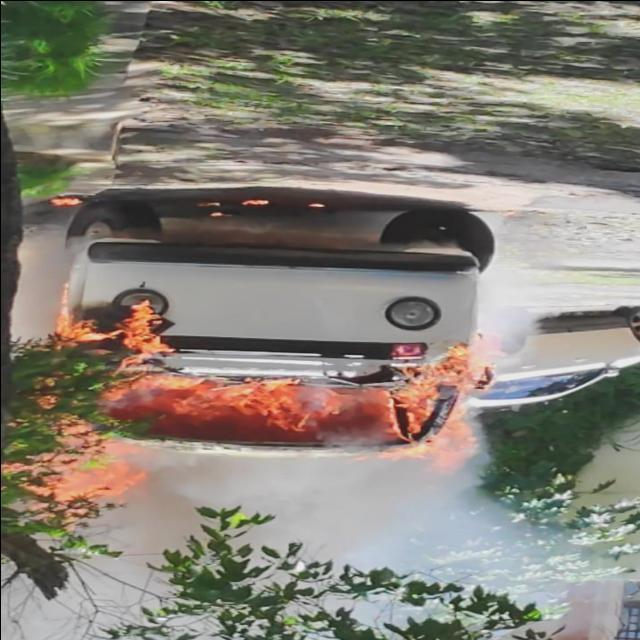Fire: (101, 344, 479, 474), (2, 434, 146, 520), (48, 296, 167, 362), (48, 197, 82, 205), (238, 200, 268, 204)
